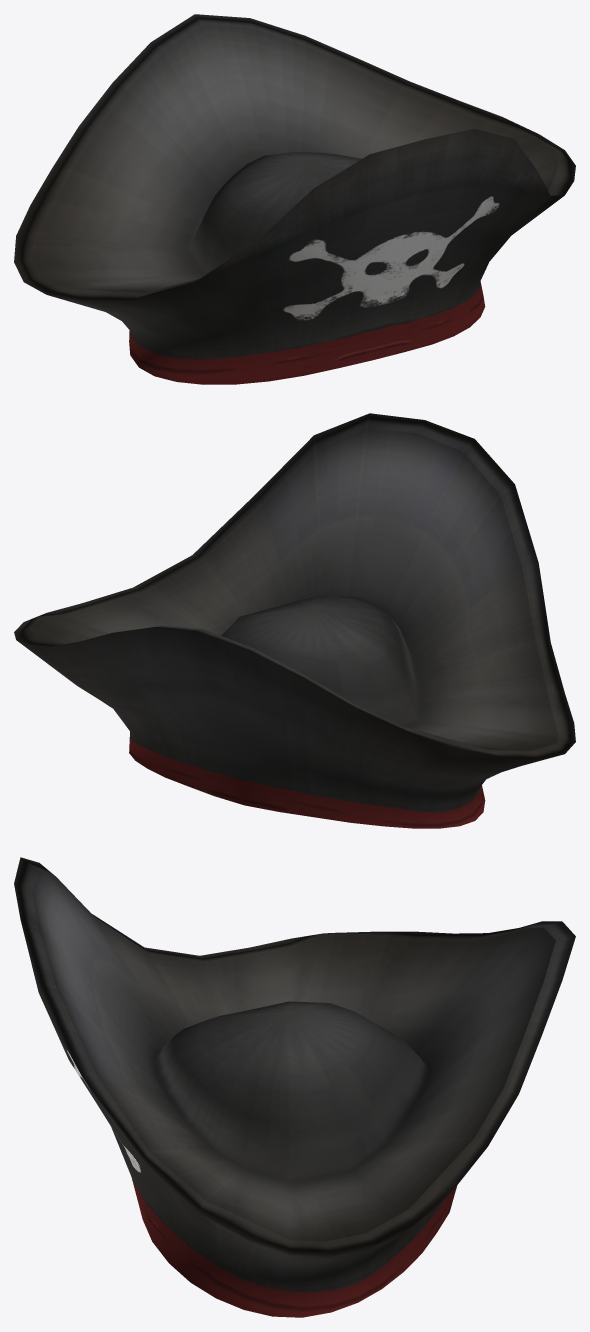
File: SM_Pirate_Hat.FBX
The picture shows the model from 3 angles, top to bottom: view 1: azimuth 30°, elevation 25°; view 2: azimuth 150°, elevation 25°; view 3: azimuth 270°, elevation 25°; orthographic projection. The views are drawn at different scales.
Visible parts, largest first — view 1: SM_Pirate_Hat; view 2: SM_Pirate_Hat; view 3: SM_Pirate_Hat.
Part boxes in pixels (<box>): SM_Pirate_Hat: <box>14,14,575,384</box>; SM_Pirate_Hat: <box>14,413,575,828</box>; SM_Pirate_Hat: <box>14,857,575,1317</box>.
Bounding box in the file's own units: 107 × 78.82 × 51.86.
